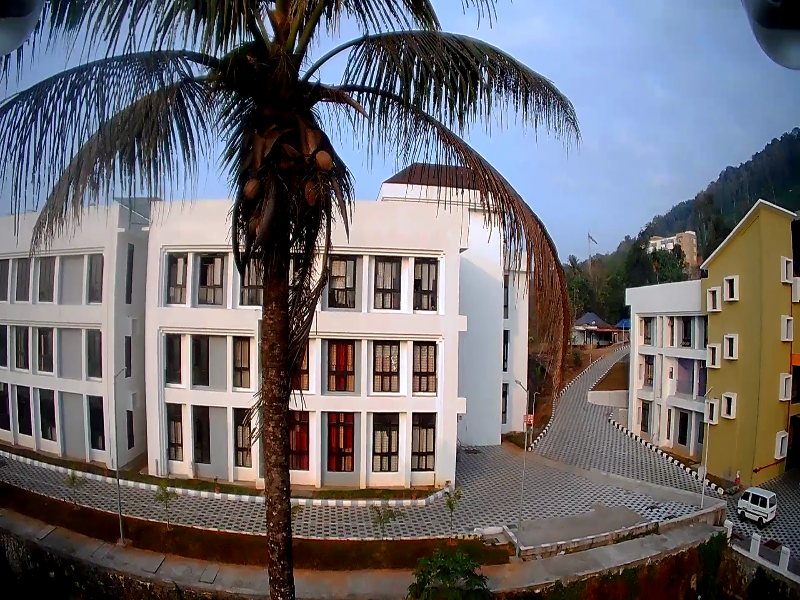coconut: (294, 182, 319, 207), (315, 147, 332, 173), (247, 210, 263, 231), (242, 181, 259, 196)
